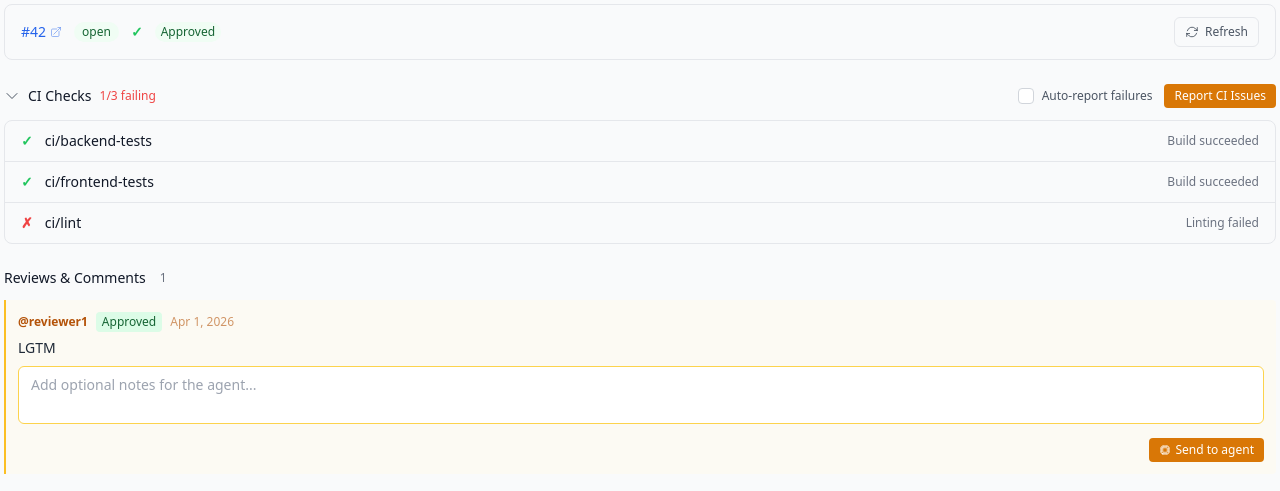
Test: PullRequestTab › CI Checks Section › expands CI checks when header is clicked again
Click the text "CI Checks" at (60, 96), box [28, 86, 92, 106]
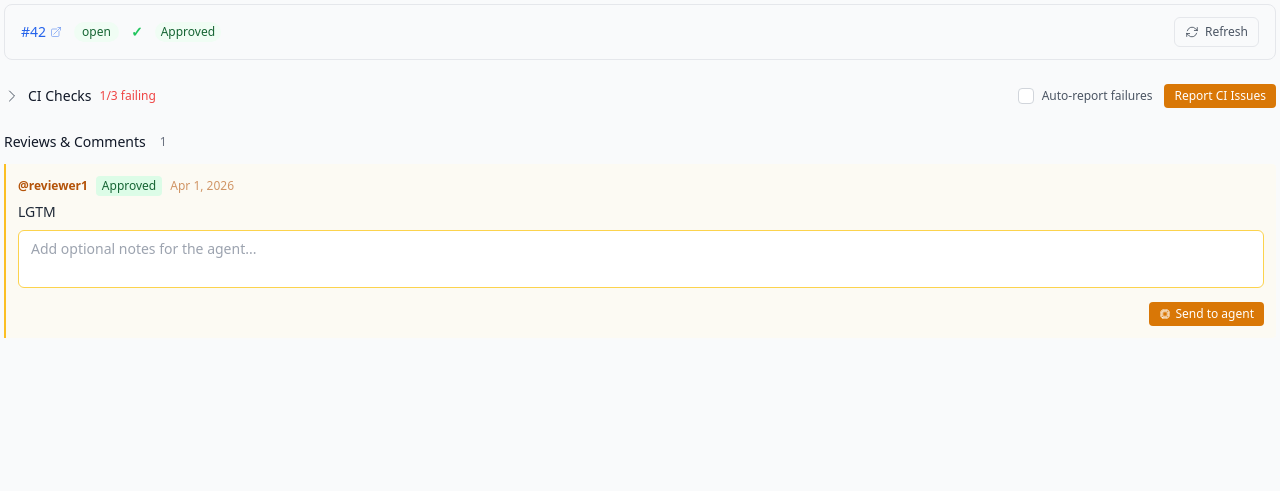
Click the text "CI Checks" at (60, 96), box [28, 86, 92, 106]
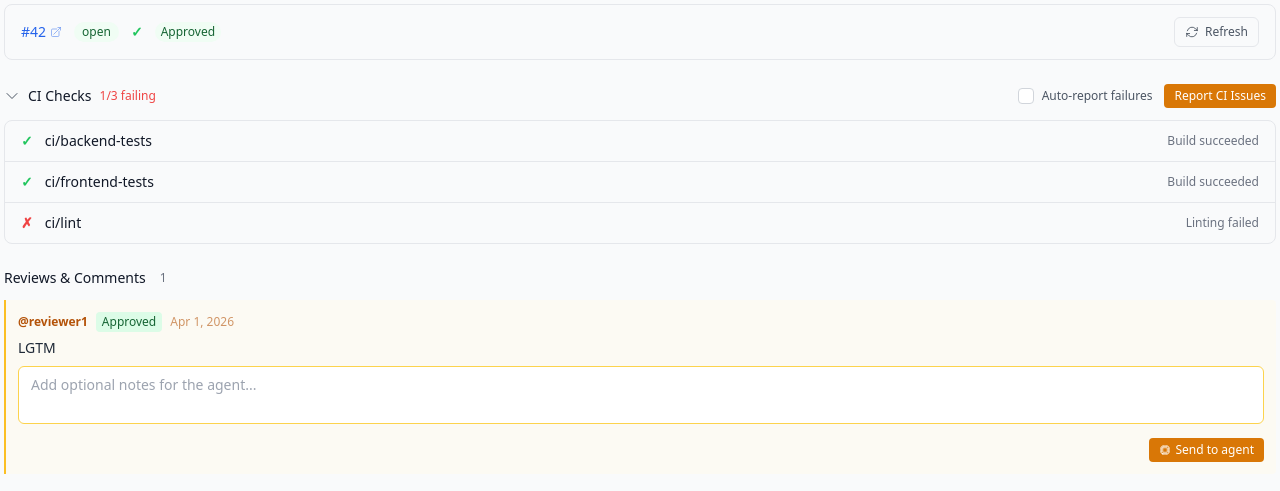
Now the text "ci/backend-tests" is shown, box [45, 131, 152, 150]
